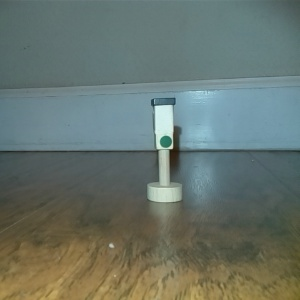traffic light green: (145, 95, 184, 204)
